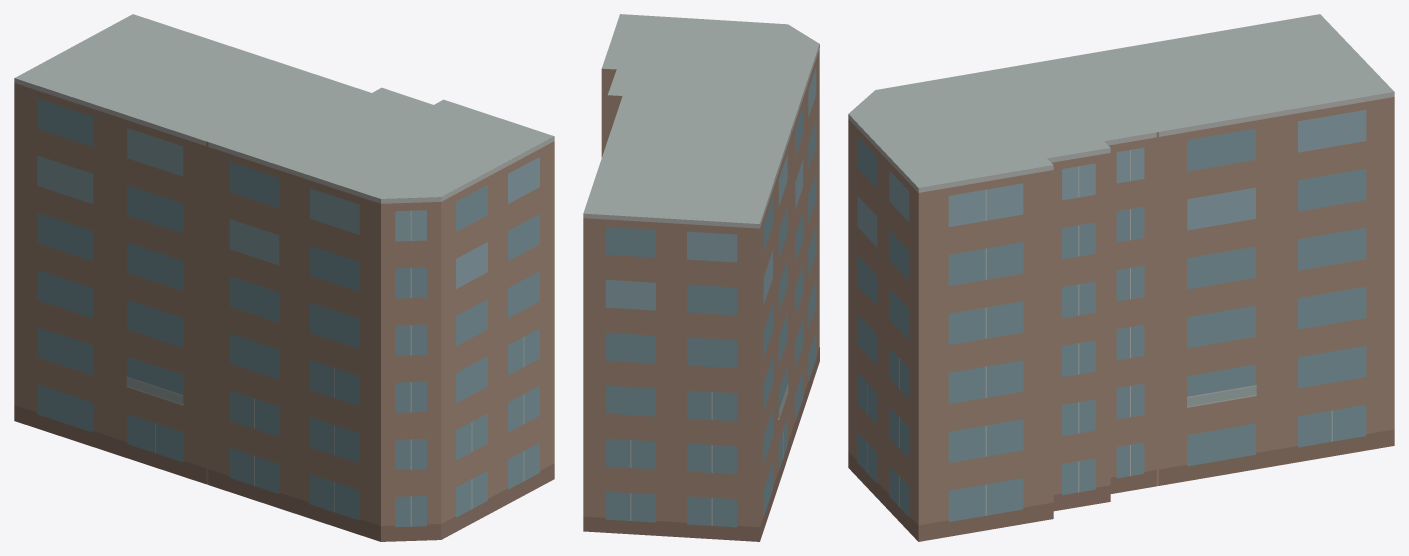
Rendered from survey-upis-32747008.glb.
The picture shows the model from 3 angles, left to right: view 1: azimuth 30°, elevation 25°; view 2: azimuth 150°, elevation 25°; view 3: azimuth 270°, elevation 25°; orthographic projection. The views are drawn at different scales.
Parts seen in each view (by area): view 1: survey-upis-32747008.tmp; view 2: survey-upis-32747008.tmp; view 3: survey-upis-32747008.tmp.
Boxes of the visible parts, x1,y1,x2,y2 form: survey-upis-32747008.tmp: [14, 14, 554, 541]; survey-upis-32747008.tmp: [583, 14, 819, 541]; survey-upis-32747008.tmp: [848, 14, 1394, 541].
Bounding box in the file's own units: 18.36 × 17.4 × 24.35.
